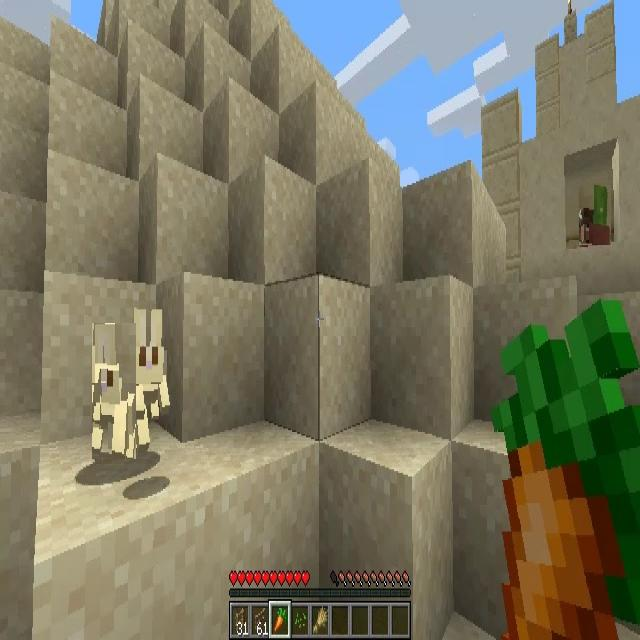people: (579, 185, 611, 245)
rabbit: (92, 324, 136, 459), (134, 310, 168, 444)
